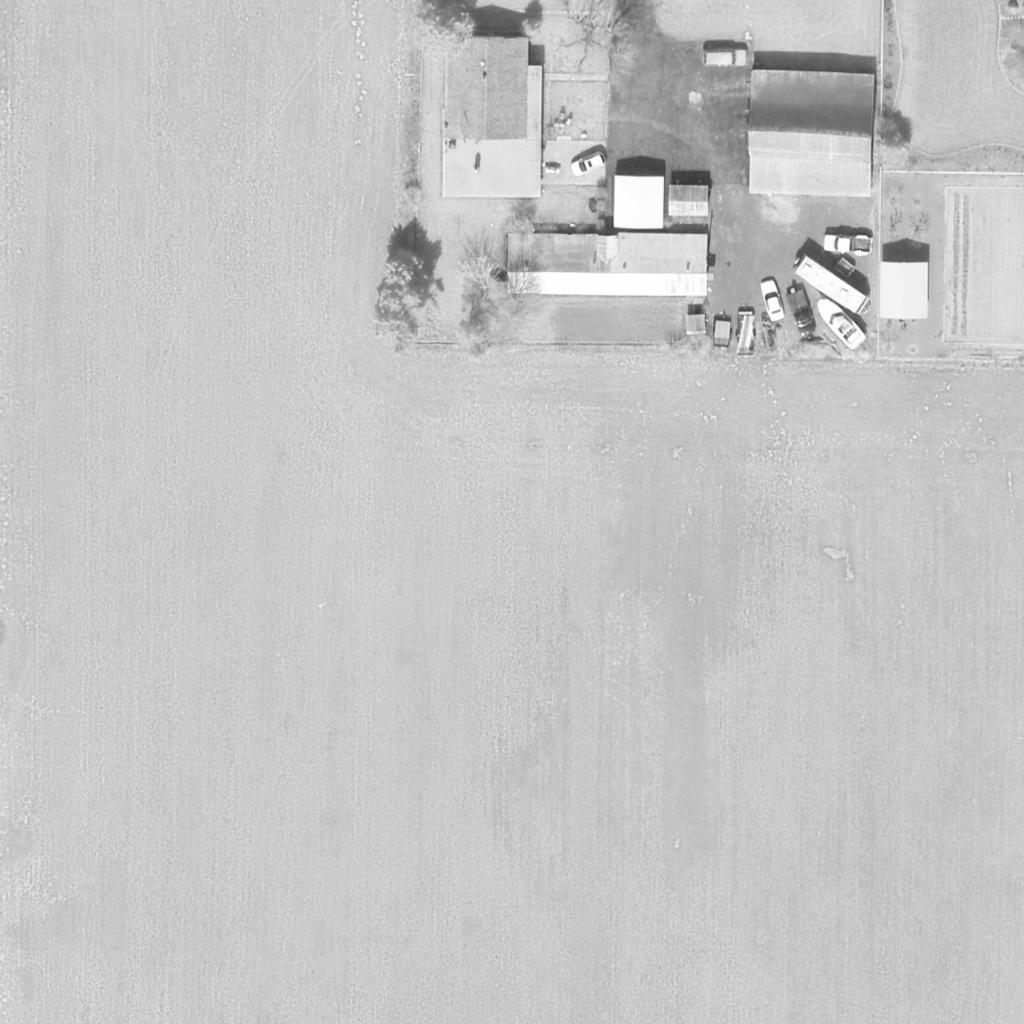vehicle: (791, 252, 875, 320), (813, 295, 869, 351), (785, 287, 819, 337), (760, 276, 788, 326), (825, 232, 875, 256), (567, 151, 609, 179), (702, 50, 748, 68)
